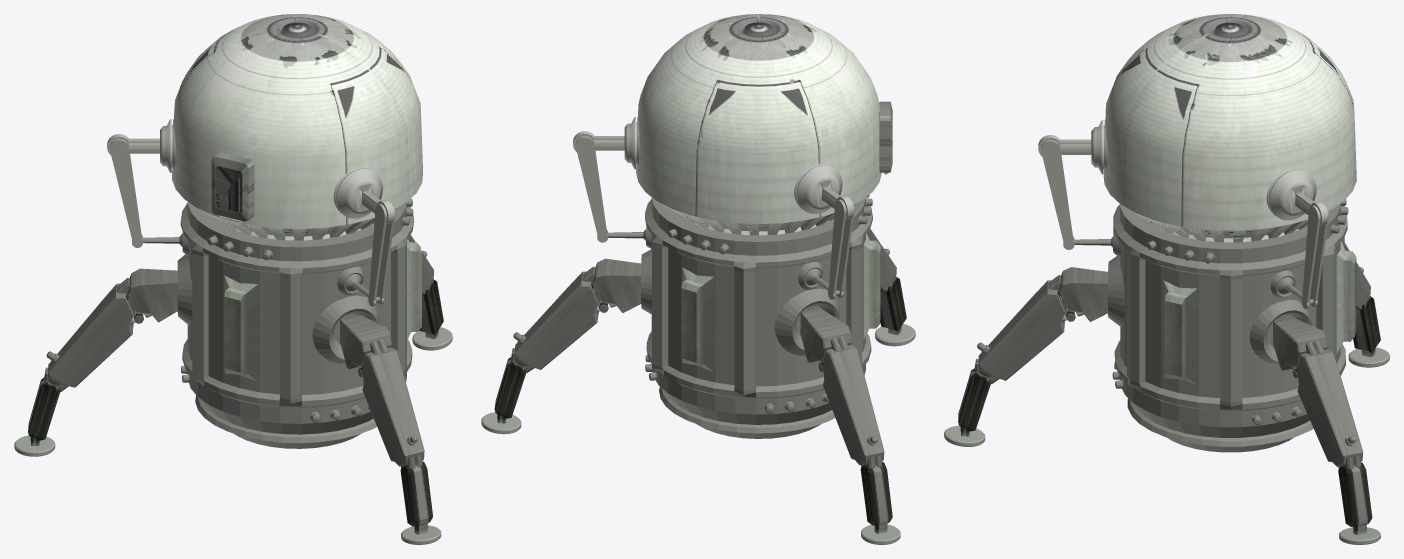
Rendered from ceres.fbx.
3 renders of one model, left to right at view 1: azimuth 30°, elevation 25°; view 2: azimuth 150°, elevation 25°; view 3: azimuth 270°, elevation 25°, orthographic. The views are drawn at different scales.
Parts seen in each view (by area): view 1: BottomBody, TopBody, LeftLeg02, RightLeg02, Life Support, RightLeg01, LeftLeg03, LeftLeg01, TopBodyReactor, DockerLeft03, DockerRight03, DockerLeft01 (+7 smaller); view 2: TopBody, BottomBody, RightLeg02, BackLeg02, BackLeg01, RightLeg03, RightLeg01, TopBodyReactor, DockerRight03, DockerBack03, DockerRight01, BackLeg03 (+8 smaller); view 3: TopBody, BottomBody, BackLeg02, LeftLeg02, LeftLeg01, BackLeg03, BackLeg01, TopBodyReactor, DockerBack03, DockerLeft03, DockerBack01, LeftLeg03 (+6 smaller).
Part boxes in pixels (<box>): BottomBody: <box>177,198,421,448</box>; TopBody: <box>172,14,422,228</box>; LeftLeg02: <box>358,339,424,466</box>; RightLeg02: <box>46,278,143,387</box>; Life Support: <box>211,152,254,223</box>; RightLeg01: <box>127,268,177,322</box>; LeftLeg03: <box>400,454,432,534</box>; LeftLeg01: <box>340,315,391,368</box>; TopBodyReactor: <box>199,204,403,240</box>; DockerLeft03: <box>368,202,395,306</box>; DockerRight03: <box>109,139,142,247</box>; DockerLeft01: <box>333,167,383,218</box>; TopBody: <box>636,14,881,224</box>; BottomBody: <box>641,194,880,438</box>; RightLeg02: <box>818,336,884,465</box>; BackLeg02: <box>513,266,608,369</box>; BackLeg01: <box>592,258,641,312</box>; RightLeg03: <box>860,455,892,533</box>; RightLeg01: <box>800,308,851,362</box>; TopBodyReactor: <box>659,202,859,235</box>; DockerRight03: <box>828,198,854,299</box>; DockerBack03: <box>575,136,608,242</box>; DockerRight01: <box>794,164,842,213</box>; BackLeg03: <box>494,348,534,423</box>; TopBody: <box>1103,14,1356,230</box>; BottomBody: <box>1107,199,1356,452</box>; BackLeg02: <box>1292,340,1363,466</box>; LeftLeg02: <box>977,275,1075,380</box>; LeftLeg01: <box>1059,267,1107,321</box>; BackLeg03: <box>1338,455,1372,535</box>; BackLeg01: <box>1273,317,1327,370</box>; TopBodyReactor: <box>1124,206,1329,242</box>; DockerBack03: <box>1301,204,1328,308</box>; DockerLeft03: <box>1041,140,1074,249</box>; DockerBack01: <box>1266,168,1316,220</box>; LeftLeg03: <box>958,358,999,436</box>.
Bounding box in the file's own units: 1271 × 1208 × 1137.
5 materials, 5 textured.
